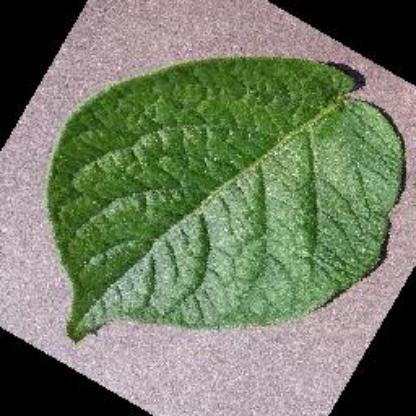Healthy-plant: (43, 51, 408, 349)
